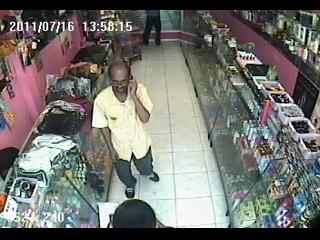Normal: (91, 61, 159, 198), (142, 10, 162, 46)
